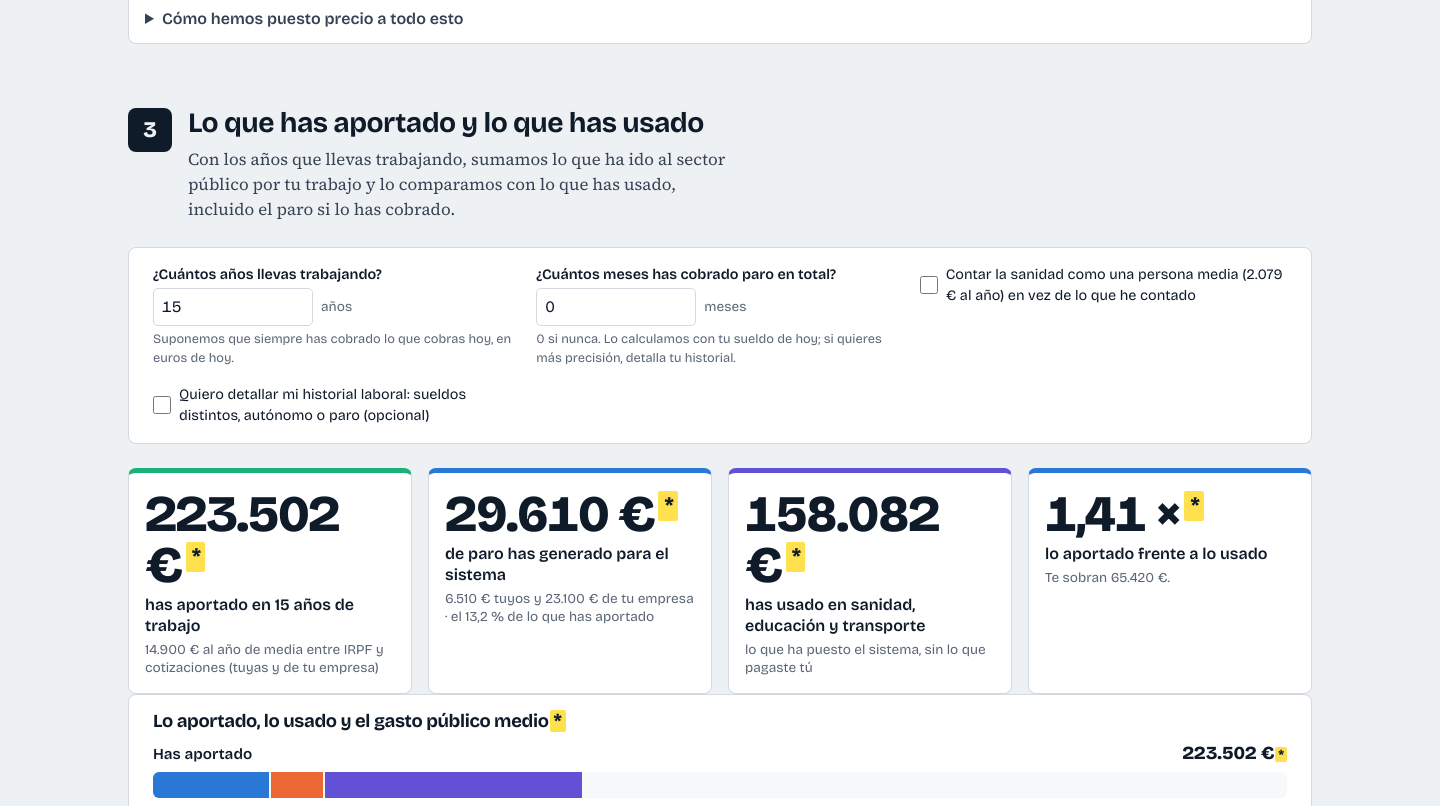
Test case: Simulador › historial: el ejemplo de la persona usuaria suma el paro cobrado y el paro que le tocaría hoy
(page scrolled)
Click the checkbox labelled "detallar mi historial laboral": point(162, 405) [153,396,171,414]
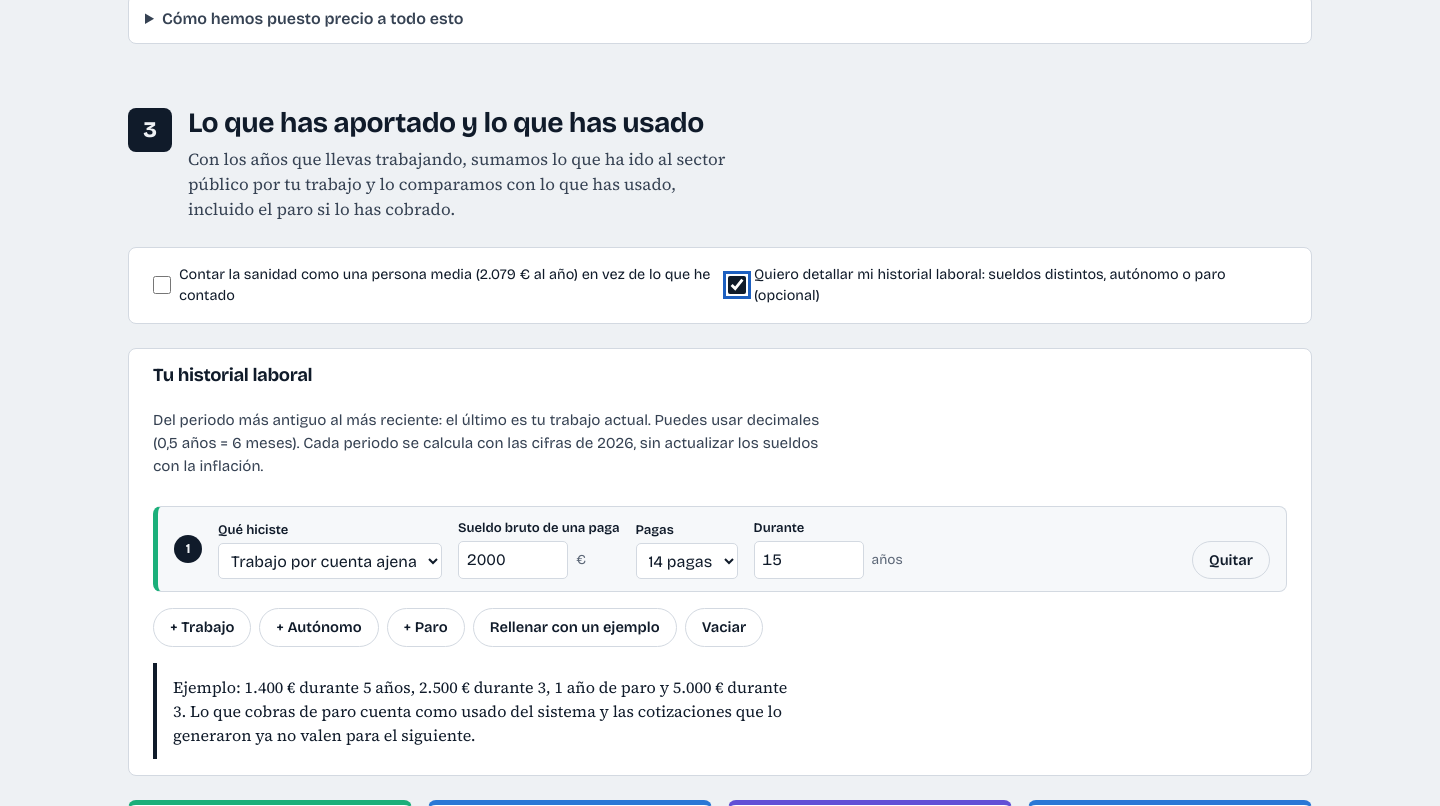
Click the button "Rellenar con un ejemplo": point(575, 628) [473,608,677,647]
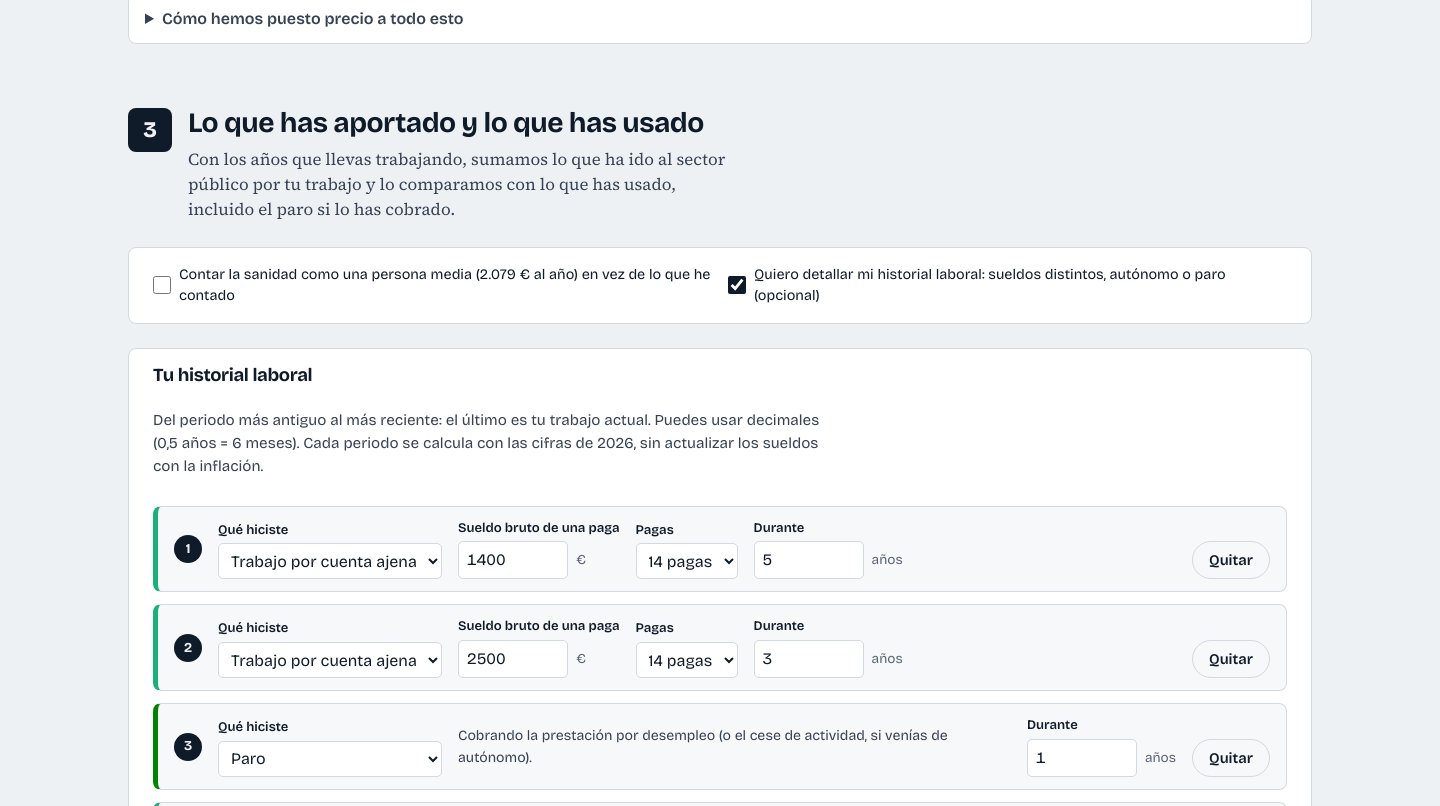
Click the button with aria-label "Quitar el periodo": point(1231, 560) [1192,541,1270,580]
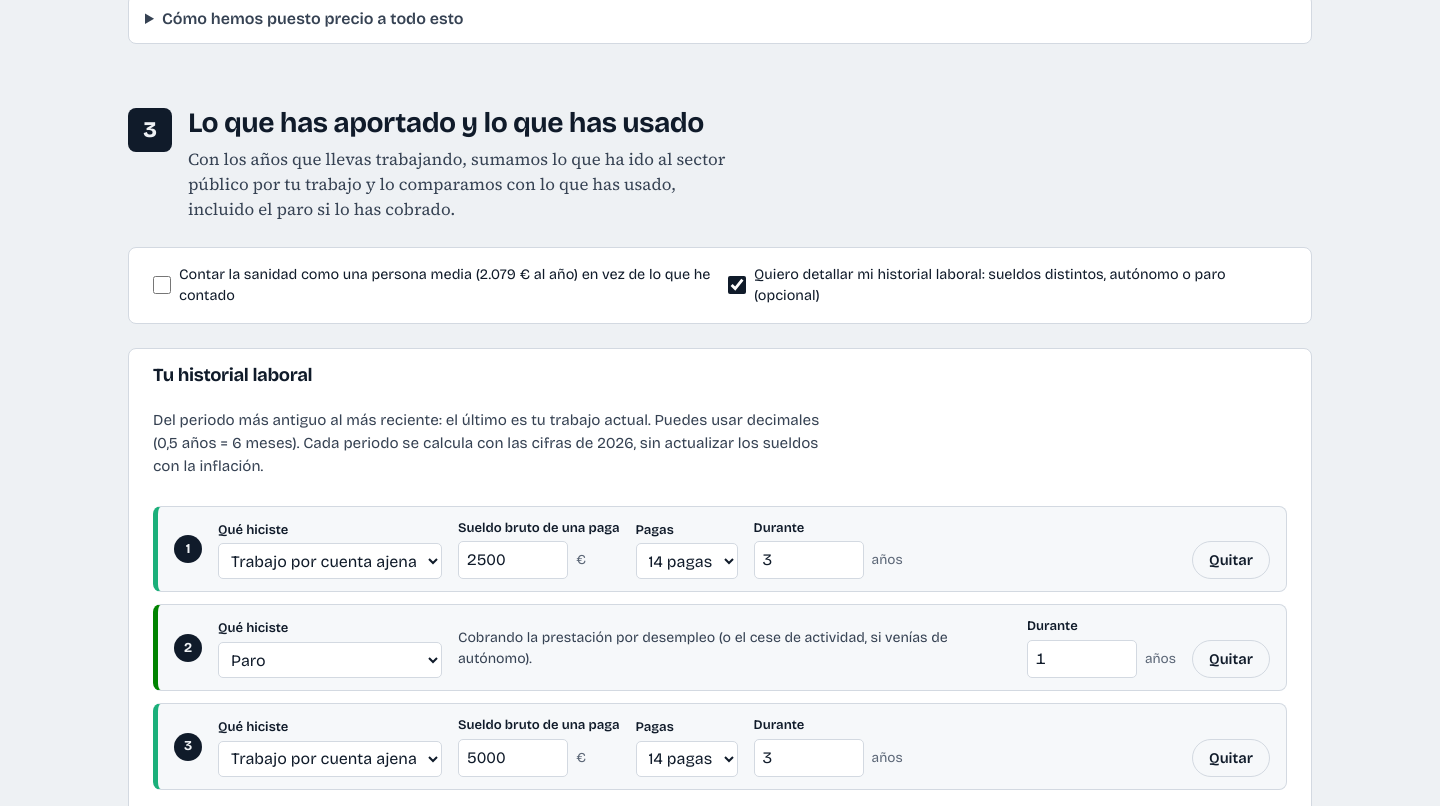
Expected: the number of list items named "Periodo " is 3, [153,506,1287,592]; [153,604,1287,691]; [153,703,1287,790]
